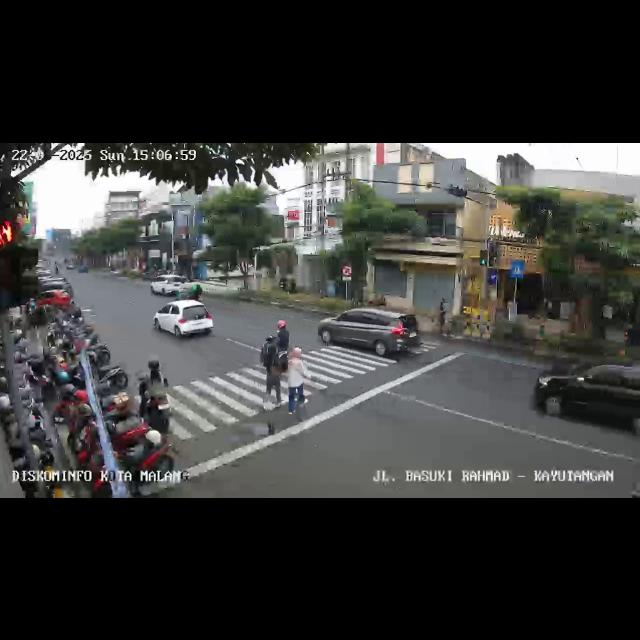car: (534, 354, 640, 440), (320, 304, 422, 362), (152, 298, 215, 342), (32, 276, 74, 312), (149, 272, 189, 296)
motorcycle: (138, 356, 170, 436), (262, 320, 292, 348)
person: (282, 346, 310, 414), (262, 344, 282, 406)
